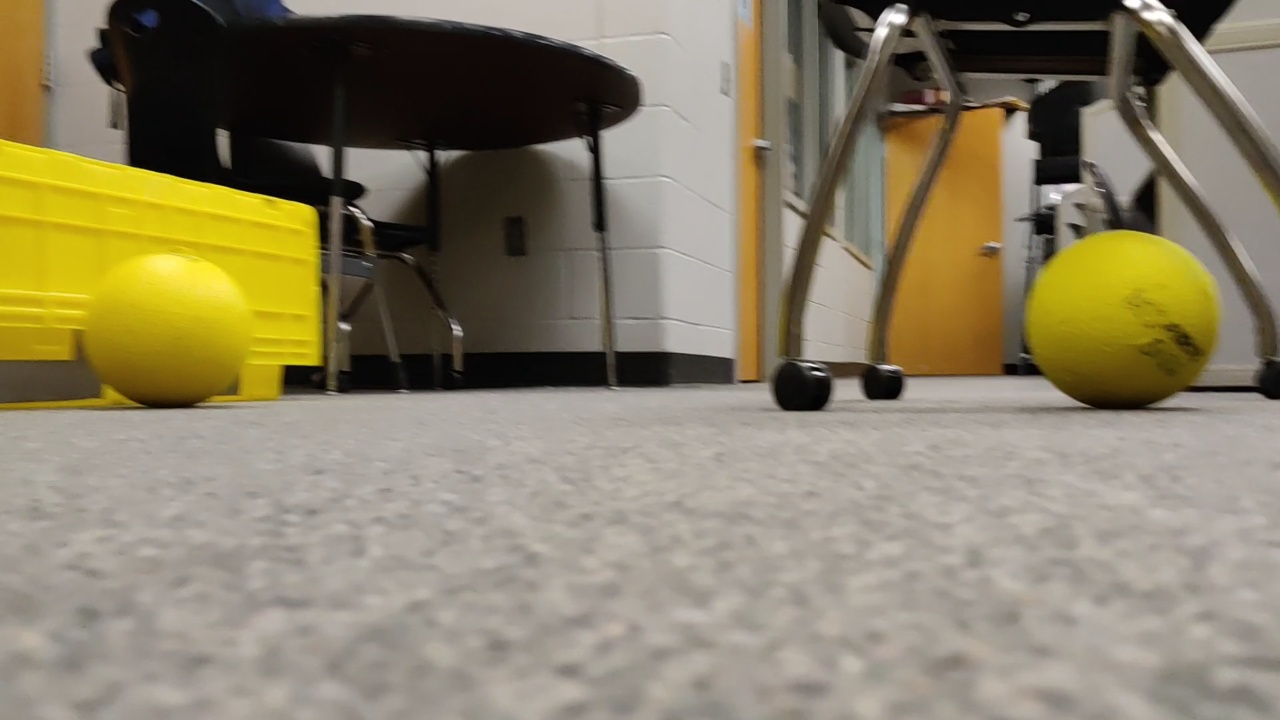Ball: (1024, 223, 1235, 431), (81, 251, 251, 401)
